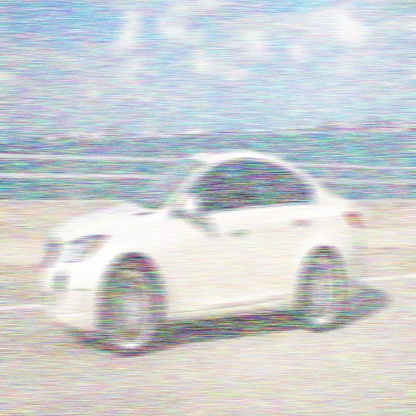Vehicle: (43, 155, 363, 358)
